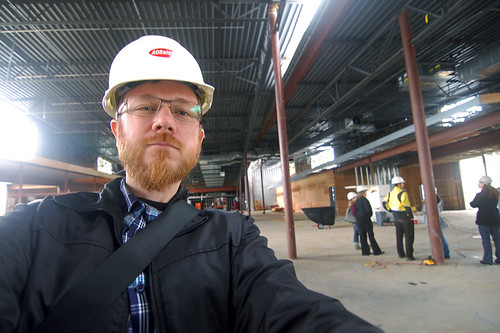person hardhat: (5, 32, 370, 333), (385, 175, 415, 262), (349, 186, 379, 256), (344, 189, 362, 253)
